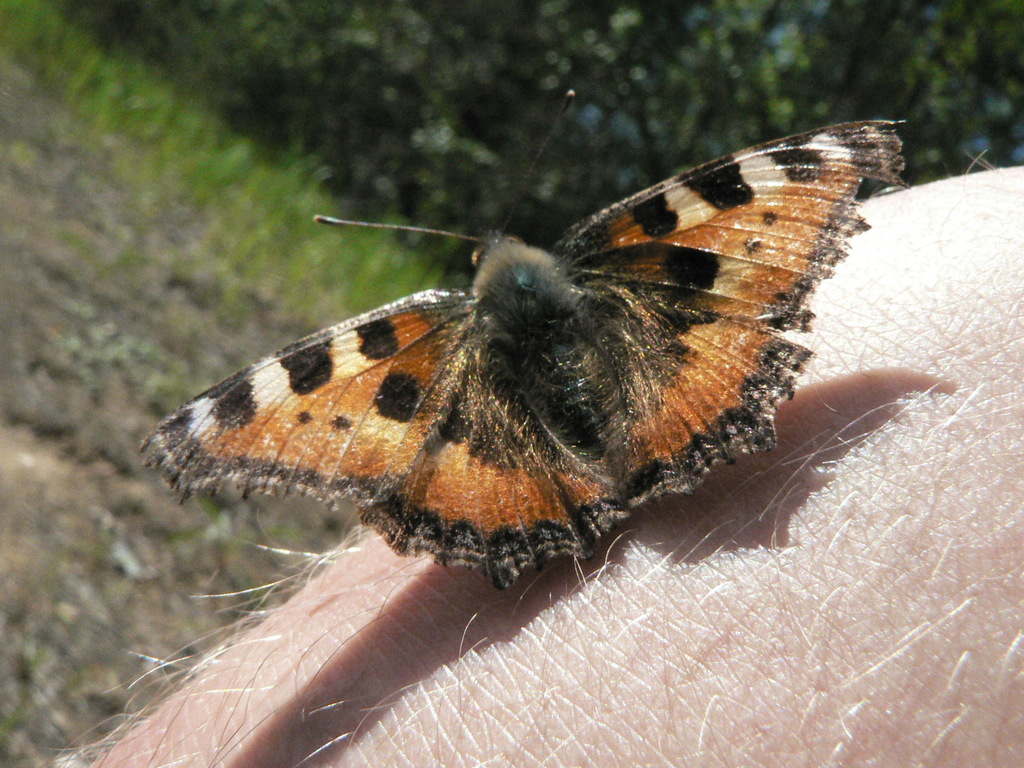Butterfly: (149, 115, 934, 643)
